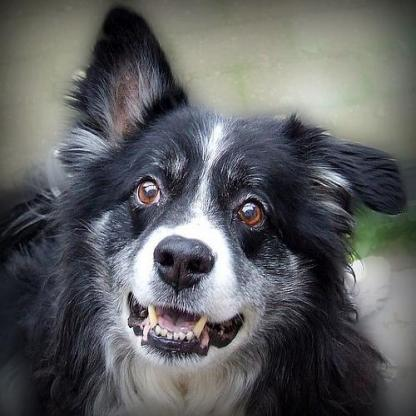Border_collie: (0, 3, 409, 413)
